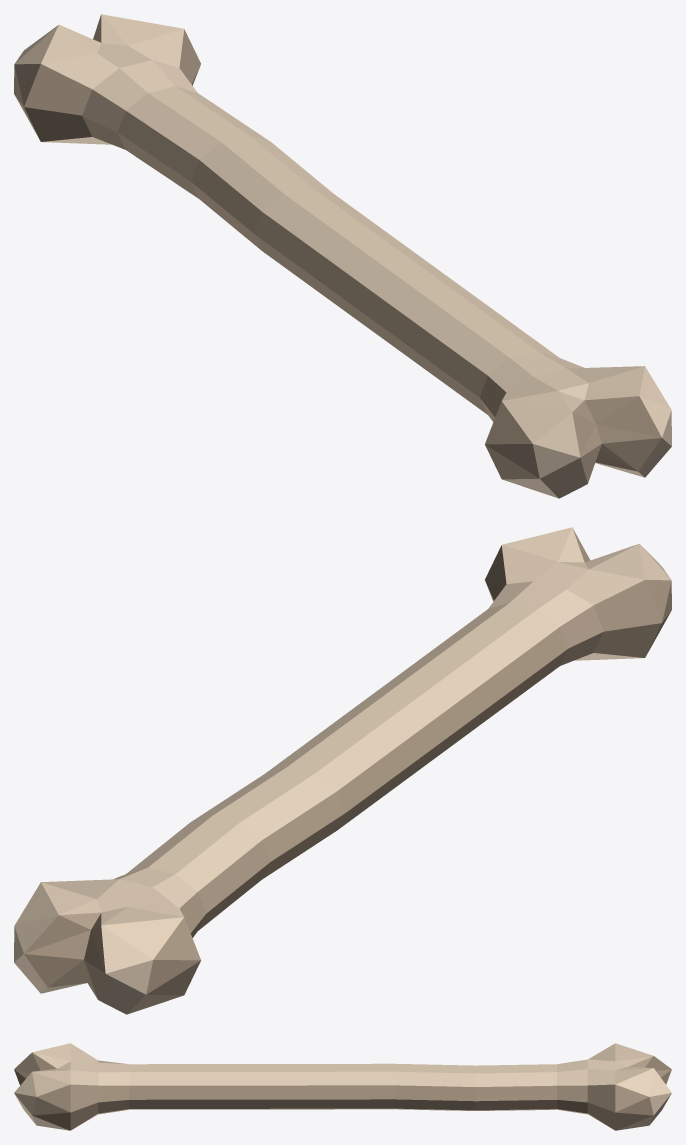
Rendered from BonesBig_01.glb.
3 views of the same model, one above another, from view 1: azimuth 30°, elevation 25°; view 2: azimuth 150°, elevation 25°; view 3: azimuth 270°, elevation 25° (orthographic). The views are drawn at different scales.
Visible parts, largest first — view 1: BonesBig_01; view 2: BonesBig_01; view 3: BonesBig_01.
Part boxes in pixels (<box>): BonesBig_01: <box>14,14,671,498</box>; BonesBig_01: <box>14,527,671,1014</box>; BonesBig_01: <box>14,1043,671,1130</box>.
Size of what is drawn, in the model's own units: 0.189 by 0.0883 by 1.03.
Materials: 1 (1 with a texture image).
